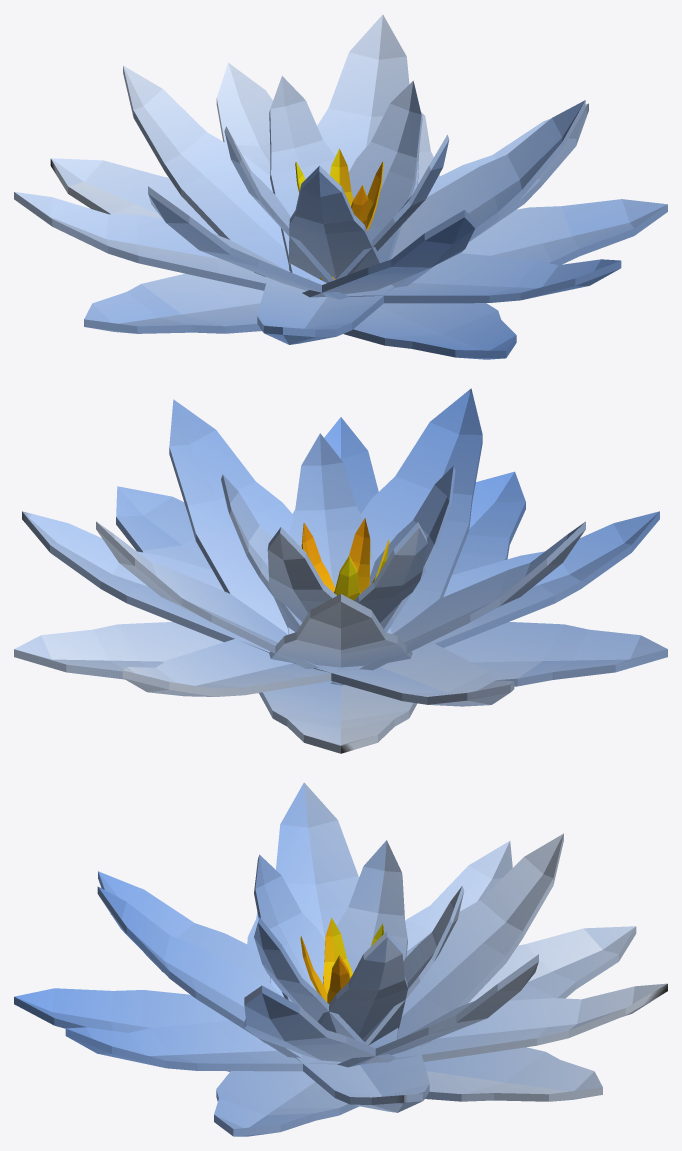
The model's file is WaterLily.fbx.
3 views of the same model, one above another, from view 1: azimuth 30°, elevation 25°; view 2: azimuth 150°, elevation 25°; view 3: azimuth 270°, elevation 25° (orthographic). The views are drawn at different scales.
Visible parts, largest first — view 1: Circle.017; view 2: Circle.017; view 3: Circle.017.
Part boxes in pixels (x1,y1,x2,y2): Circle.017: (14,14,667,359); Circle.017: (14,388,667,753); Circle.017: (14,782,667,1136).
Size of the model in its own units: 49.91 by 49.53 by 15.49.
